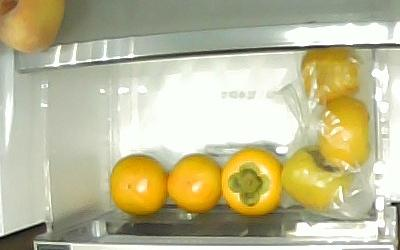persimmon: (220, 146, 283, 215), (108, 153, 168, 216), (165, 152, 223, 213)
persimmon_vinyl: (279, 144, 352, 211), (315, 95, 371, 168), (300, 47, 361, 104)
